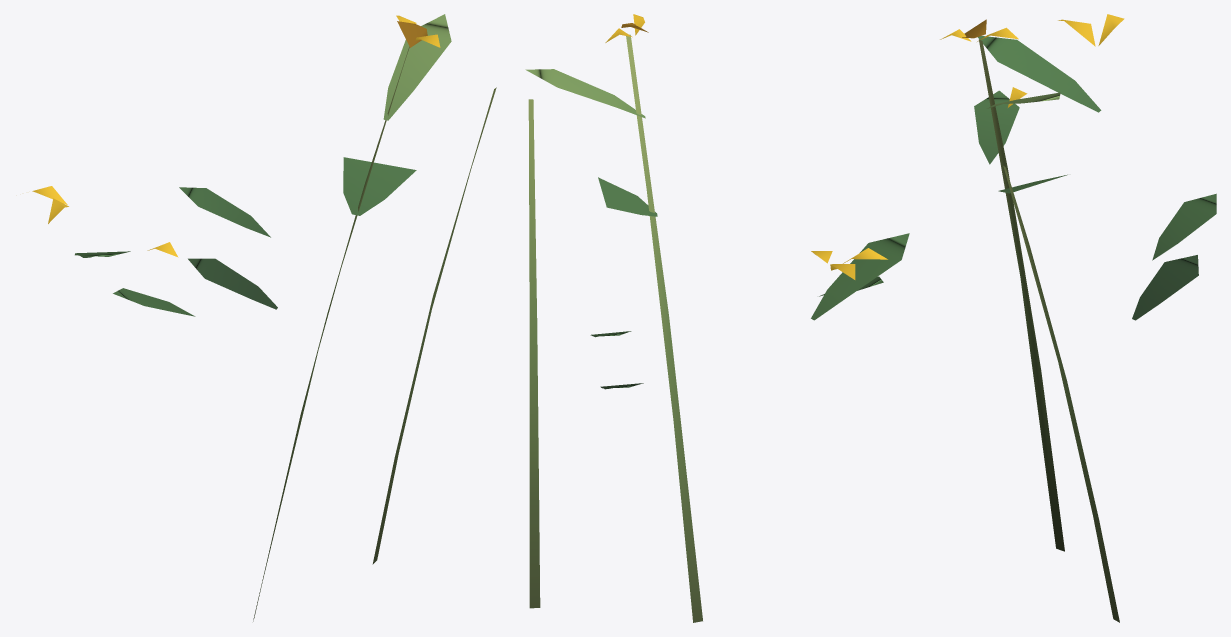
File: FieldWeedSprig_LOD1.glb
3 views of the same model, side by side, from view 1: azimuth 30°, elevation 25°; view 2: azimuth 150°, elevation 25°; view 3: azimuth 270°, elevation 25° (orthographic). The views are drawn at different scales.
Parts seen in each view (by area): view 1: FieldWeedSprig_LOD1; view 2: FieldWeedSprig_LOD1; view 3: FieldWeedSprig_LOD1.
Boxes of the visible parts, x1=… form: FieldWeedSprig_LOD1: x1=32, y1=14, x2=496, y2=621; FieldWeedSprig_LOD1: x1=525, y1=14, x2=909, y2=622; FieldWeedSprig_LOD1: x1=940, y1=14, x2=1216, y2=622.
Bounding box in the file's own units: 0.1163 × 0.1585 × 0.0688.
